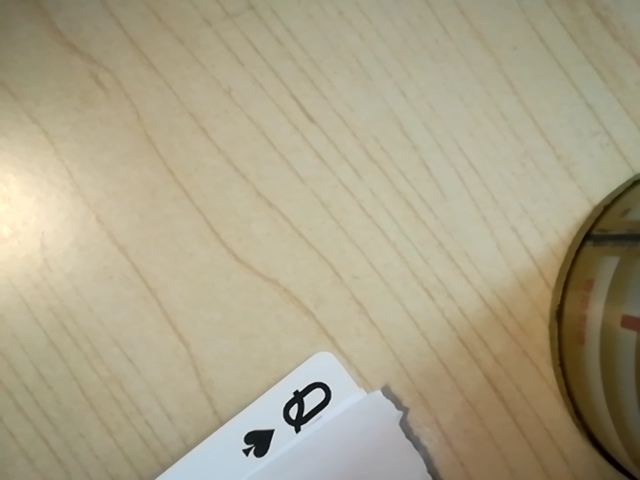ht q: (228, 374, 348, 466)
